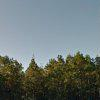Tree: (27, 49, 100, 100)
